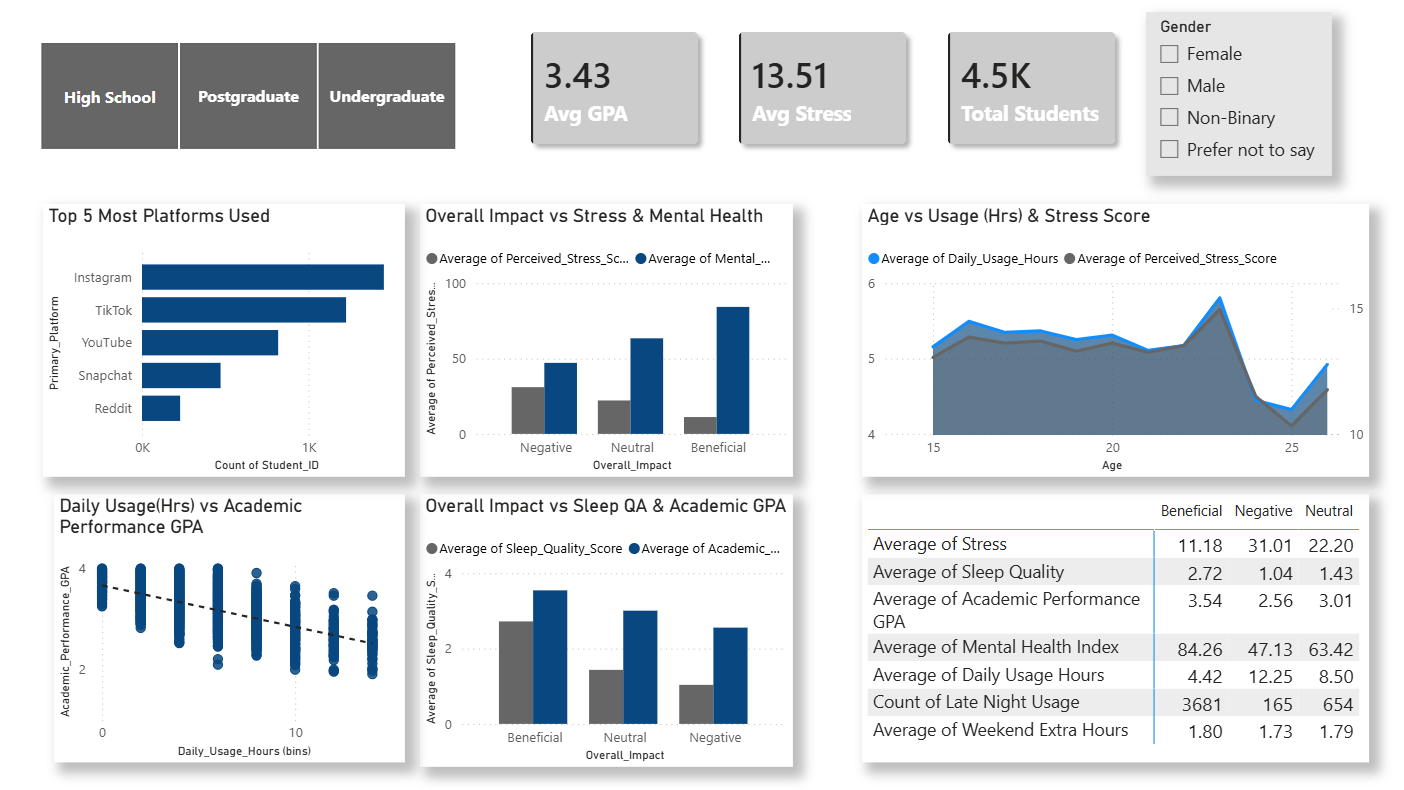

The dashboard page shown, as its layout file describes it:
{"tool":"powerbi","page":{"name":"Page 2","canvas":[1280,720],"ordinal":0},"visuals":[{"type":"group","id":"g1","title":"Group 1","box":[455,0,589,160],"z":0},{"type":"cardVisual","fields":{"Data":["_Measures.Promedio GPA"]},"box":[455,0,210.2,160],"z":0,"group":"g1"},{"type":"cardVisual","fields":{"Data":["_Measures.Promedio Stress"]},"box":[644.4,0,210.2,160],"z":1000,"group":"g1"},{"type":"slicer","fields":{"Values":["dataset_limpio.Gender"]},"box":[1044,11,169,149],"z":1000},{"type":"cardVisual","fields":{"Data":["CountNonNull(dataset_limpio.Student_ID)"]},"box":[833.8,0,210.2,160],"z":2000,"group":"g1"},{"type":"clusteredColumnChart","title":"Overall Impact vs Sleep QA & Academic GPA","fields":{"Category":["dataset_limpio.Overall_Impact"],"Y":["Avg(dataset_limpio.Sleep_Quality_Score)","Avg(dataset_limpio.Academic_Performance_GPA)"]},"box":[384,449,339,248],"z":2000},{"type":"clusteredColumnChart","title":"Overall Impact vs Stress & Mental Health","fields":{"Category":["dataset_limpio.Overall_Impact"],"Y":["Avg(dataset_limpio.Perceived_Stress_Score)","Avg(dataset_limpio.Mental_Health_Index)"]},"box":[384,185,339,248],"z":3000},{"type":"scatterChart","title":"Daily Usage(Hrs) vs Academic Performance GPA","fields":{"X":["dataset_limpio.Daily_Usage_Hours (bins)"],"Y":["dataset_limpio.Academic_Performance_GPA"]},"box":[51,449,319,244],"z":4000},{"type":"clusteredBarChart","title":"Top 5 Most Platforms Used","fields":{"Category":["dataset_limpio.Primary_Platform"],"Y":["CountNonNull(dataset_limpio.Student_ID)"]},"box":[41,185,329,248],"z":5000},{"type":"slicer","fields":{"Values":["dataset_limpio.Academic_Level"]},"box":[14,18,426,124],"z":6000},{"type":"pivotTable","fields":{"Columns":["dataset_limpio.Overall_Impact"],"Values":["Avg(dataset_limpio.Perceived_Stress_Score)","Avg(dataset_limpio.Sleep_Quality_Score)","Avg(dataset_limpio.Academic_Performance_GPA)","Avg(dataset_limpio.Mental_Health_Index)","Avg(dataset_limpio.Daily_Usage_Hours)","CountNonNull(dataset_limpio.Late_Night_Usage)","Avg(dataset_limpio.Weekend_Extra_Hours)"]},"box":[785,449,461,244],"z":7000},{"type":"areaChart","title":"Age vs Usage (Hrs) & Stress Score","fields":{"Category":["dataset_limpio.Age"],"Y":["Avg(dataset_limpio.Daily_Usage_Hours)"],"Y2":["Avg(dataset_limpio.Perceived_Stress_Score)"]},"box":[785,185,461,248],"z":8000}]}

Visuals, with their boxes in screenshot pixels (x1, y1, x2, y2), scaled from the page's 1280x720 canvas onto the 1404x790 screenshot:
"Group 1" group: l=499, t=0, r=1145, b=176
cardVisual - _Measures.Promedio GPA: l=499, t=0, r=730, b=176
cardVisual - _Measures.Promedio Stress: l=707, t=0, r=937, b=176
slicer - dataset_limpio.Gender: l=1145, t=12, r=1331, b=176
cardVisual - CountNonNull(dataset_limpio.Student_ID): l=915, t=0, r=1145, b=176
"Overall Impact vs Sleep QA & Academic GPA" clusteredColumnChart: l=421, t=493, r=793, b=765
"Overall Impact vs Stress & Mental Health" clusteredColumnChart: l=421, t=203, r=793, b=475
"Daily Usage(Hrs) vs Academic Performance GPA" scatterChart: l=56, t=493, r=406, b=760
"Top 5 Most Platforms Used" clusteredBarChart: l=45, t=203, r=406, b=475
slicer - dataset_limpio.Academic_Level: l=15, t=20, r=483, b=156
pivotTable - dataset_limpio.Overall_Impact x Avg(dataset_limpio.Perceived_Stress_Score): l=861, t=493, r=1367, b=760
"Age vs Usage (Hrs) & Stress Score" areaChart: l=861, t=203, r=1367, b=475
